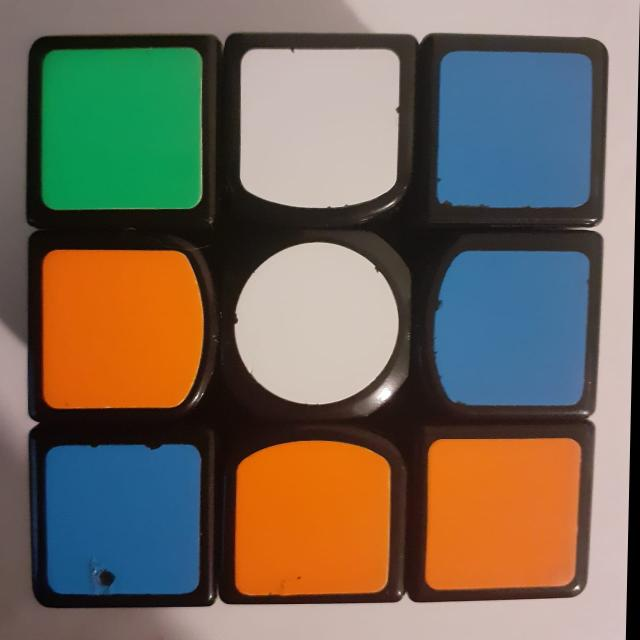Blue: (28, 432, 217, 608), (426, 44, 604, 222), (430, 238, 602, 416)
Green: (29, 46, 217, 220)
Orange: (31, 239, 214, 416), (222, 438, 408, 602), (422, 437, 586, 591)
White: (221, 239, 421, 421), (225, 42, 410, 216)
